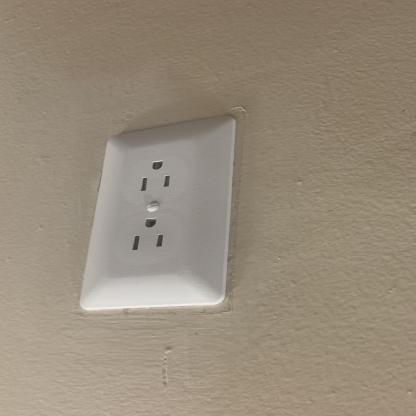OUTLET: (78, 111, 240, 313)
